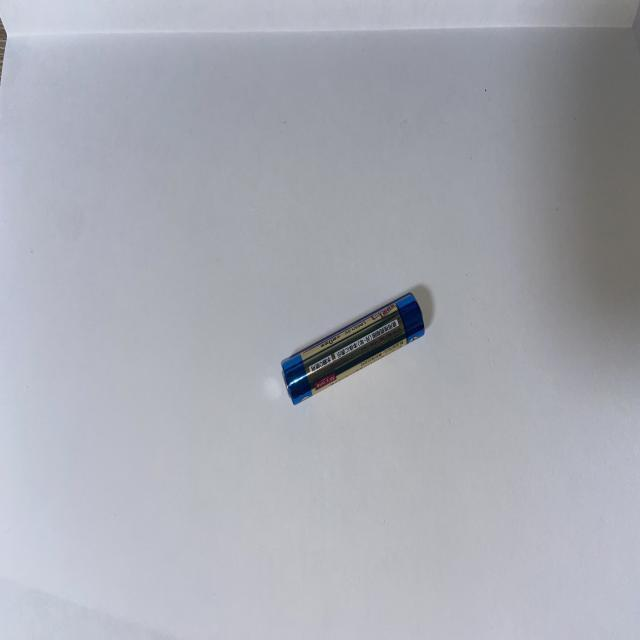Hazard: (279, 292, 426, 405)
